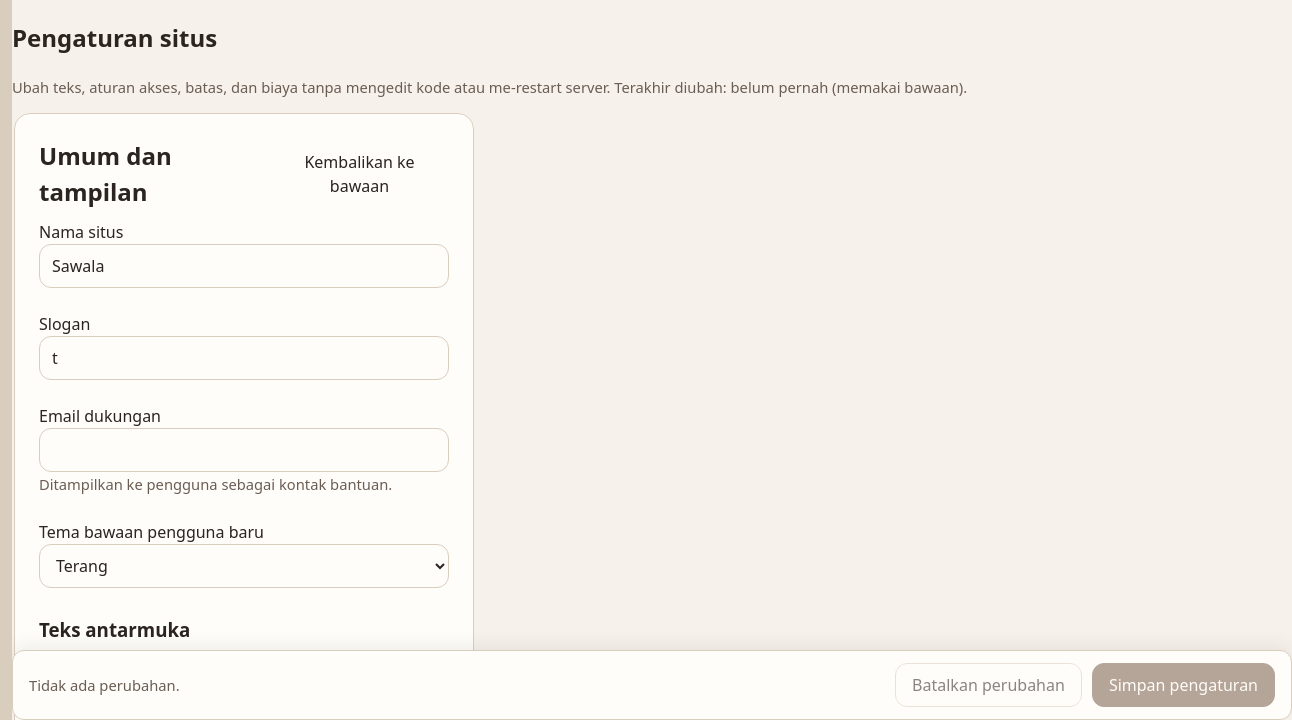
Test: SettingsPage › galat validasi dari server ditandai pada kolom yang tepat
The width and height of the screenshot is (1292, 720).
Type "x" into the field labelled "Email dukungan". click: (244, 450)
box: [39,428,449,472]
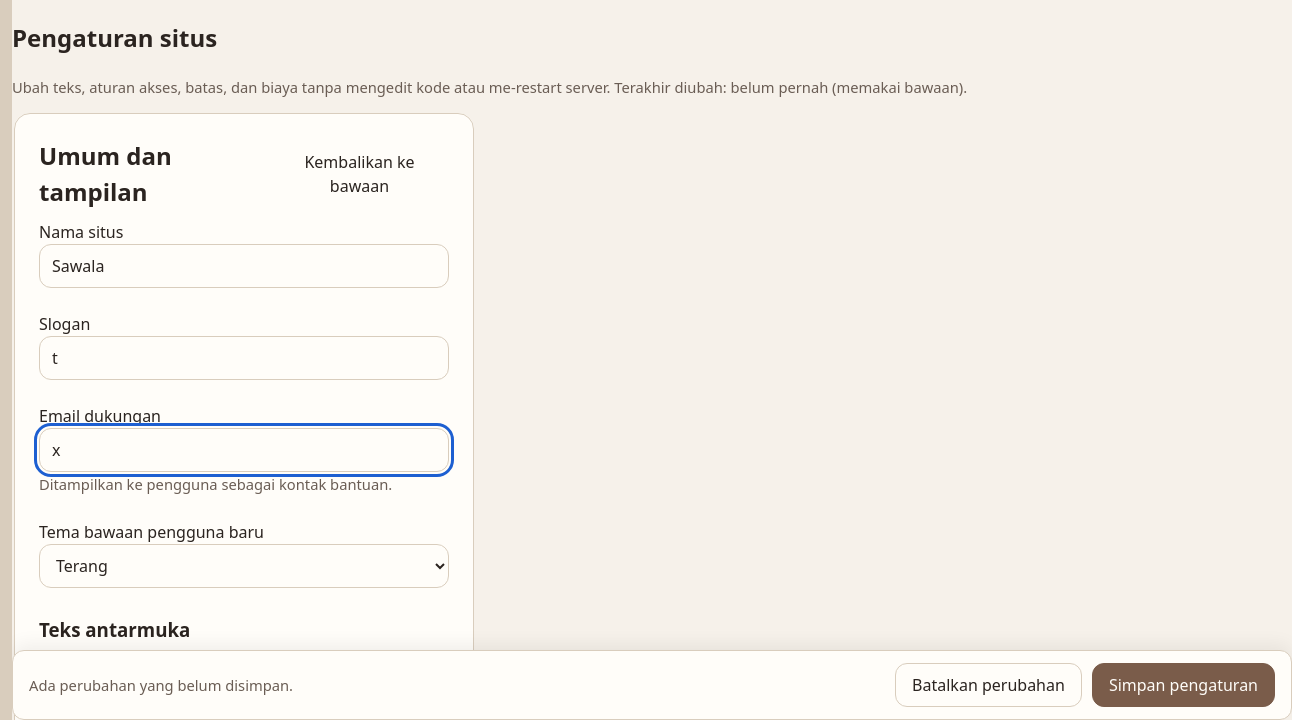
Click the button "Simpan pengaturan". click: (1183, 685)
box: [1092,663,1275,707]
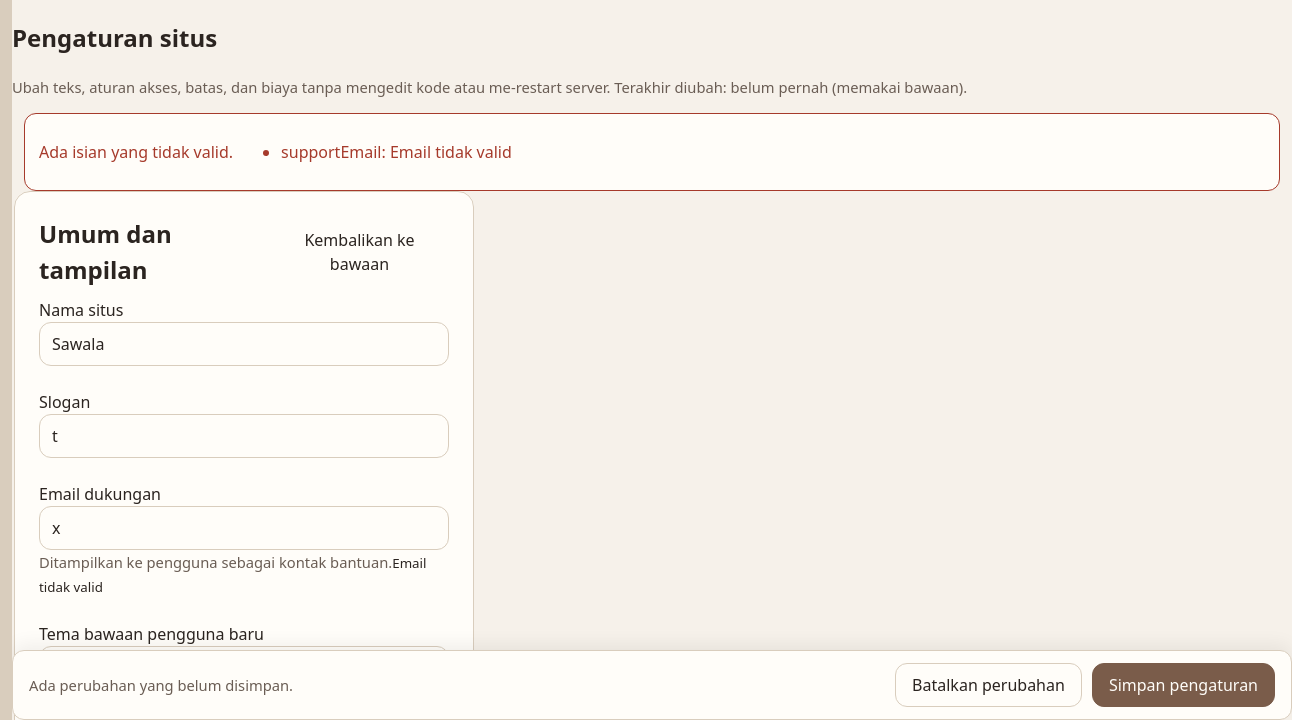
Expected: the message "Ada isian yang tidak valid. supportEmail: Email tidak valid" is shown, [24,113,1280,191]
